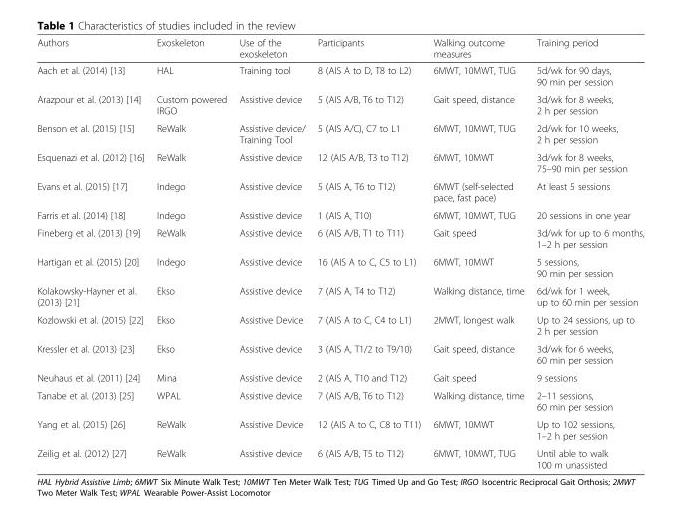table: (36, 36, 643, 469)
table column: (310, 36, 426, 469), (529, 36, 643, 469), (36, 36, 149, 469), (426, 36, 529, 469), (149, 36, 232, 469), (232, 36, 310, 469)
table column header: (36, 36, 643, 61)
table row: (36, 61, 643, 90), (36, 90, 643, 119), (36, 119, 643, 148), (36, 148, 643, 177), (36, 177, 643, 206), (36, 223, 643, 252), (36, 252, 643, 281), (36, 281, 643, 310), (36, 310, 643, 339), (36, 339, 643, 368), (36, 386, 643, 415), (36, 415, 643, 444), (36, 36, 643, 61), (36, 444, 643, 469), (36, 368, 643, 386), (36, 206, 643, 223)
